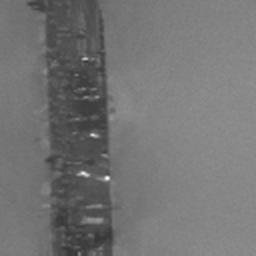Slag inclusion: (26, 0, 118, 256)
